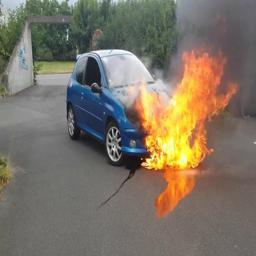fire: (135, 51, 238, 168)
